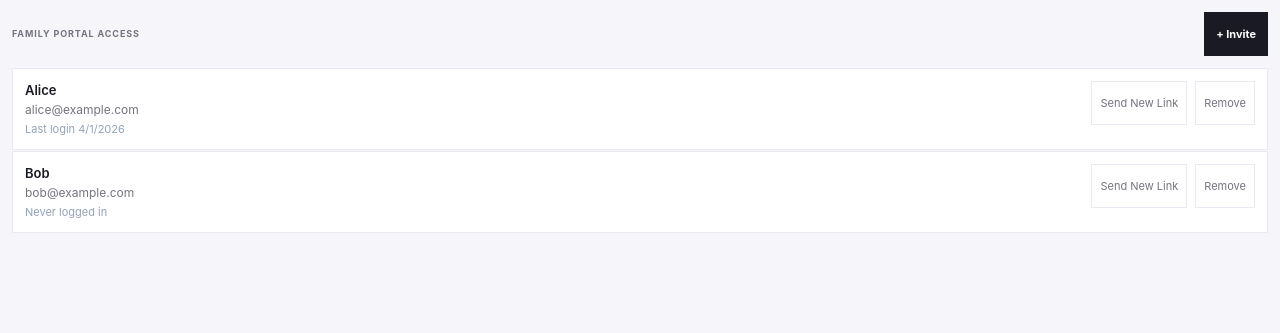
Test: FamilyPortalTab › shows remove confirmation with correct copy on Remove click
Click the button "Remove" in the row of "alice@example.com". click: (1225, 103)
box: [1195,81,1255,125]
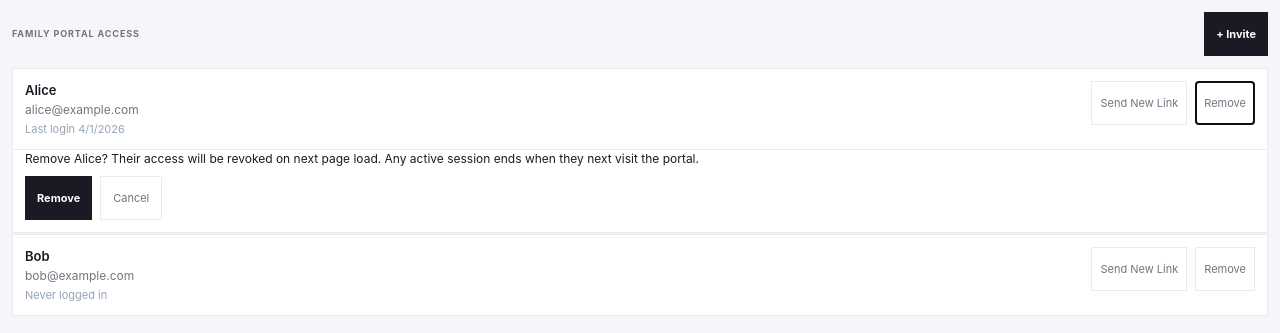
expect the text "Their access will be revoked on next page load" is shown: met, box [25,151,699,166]
expect the 2nd button "Remove" is shown: met, box [25,176,92,220]
